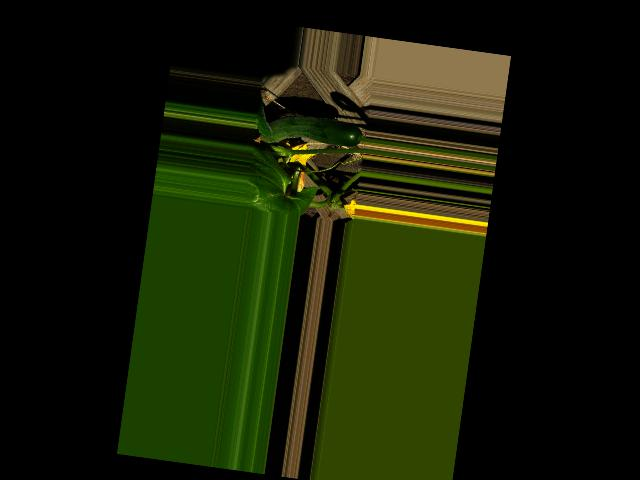cucumber: (253, 108, 362, 155)
